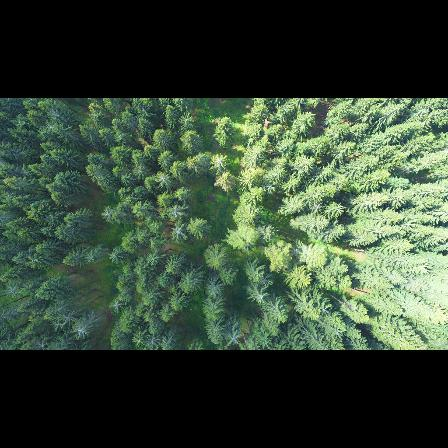Sick: (223, 328, 244, 347), (71, 322, 93, 339), (210, 152, 229, 170), (253, 290, 271, 307), (173, 225, 189, 243), (108, 298, 125, 314), (132, 163, 150, 178), (155, 172, 172, 186), (103, 206, 116, 221), (44, 119, 57, 132)
